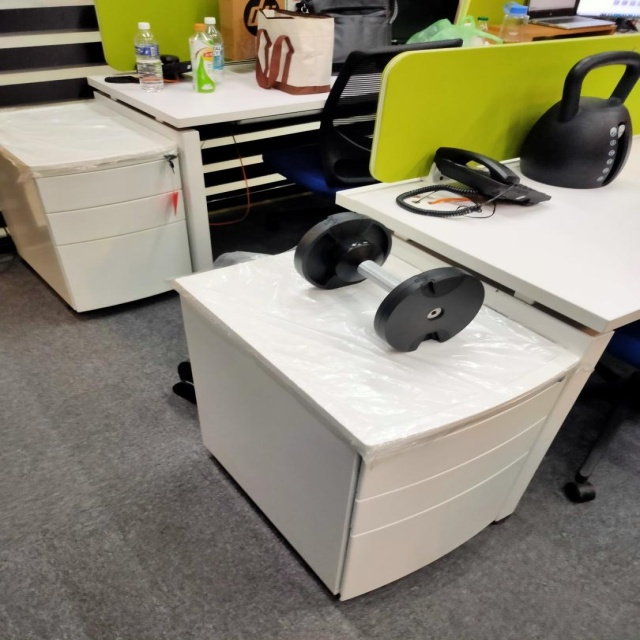03-6kg: (294, 212, 486, 353)
